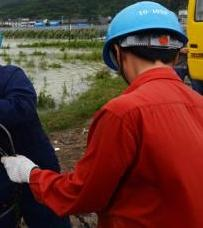gloves: (0, 153, 39, 183), (0, 76, 19, 108)
hard-hat: (0, 16, 27, 57)
ppe-suit: (0, 62, 90, 227)
